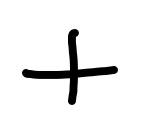plus: (23, 29, 118, 105)
